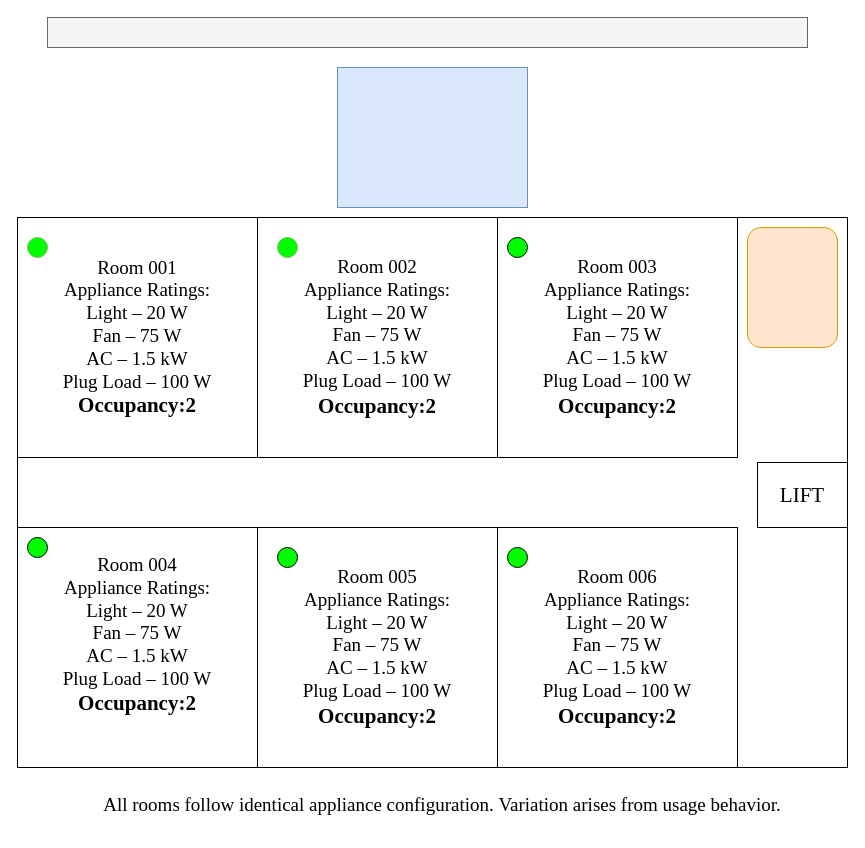
This 865x848 diagram has some shape labels left out. The centre of each missing label's shape, as x and y in pixels:
"FLOOR PLAN OF SIMULATED HOSTEL ROOM" goes at point (427, 32).
"Legend Green – Normal Energy Usage Red – Wastage Detected" goes at point (432, 137).
"Virtual Floor Energy Aggregator (Simulated Meter)" goes at point (792, 287).
